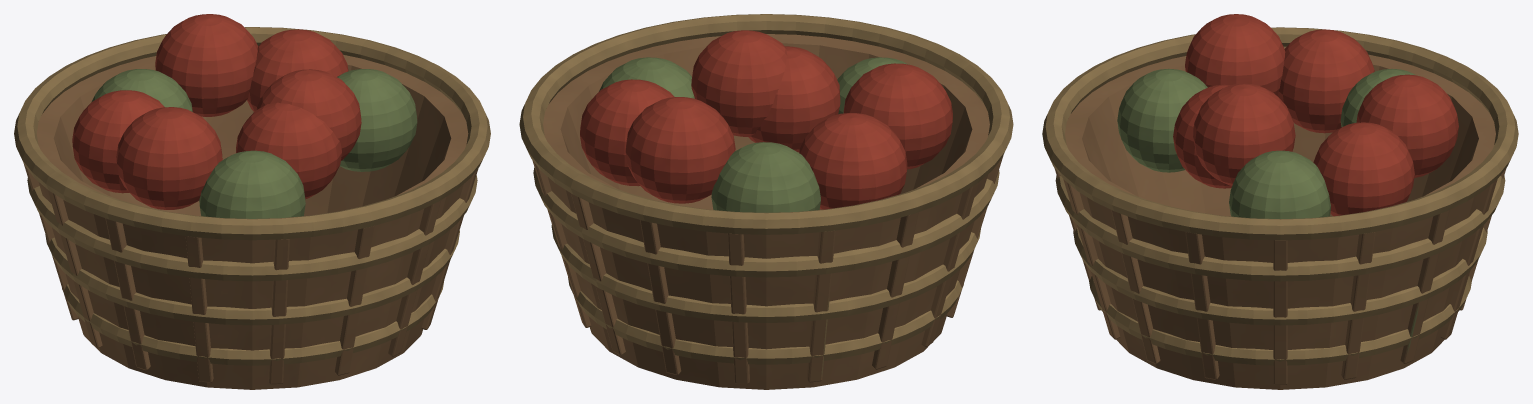
The model's file is Produce_Basket.fbx.
3 renders of one model, left to right at view 1: azimuth 30°, elevation 25°; view 2: azimuth 150°, elevation 25°; view 3: azimuth 270°, elevation 25°, orthographic. The views are drawn at different scales.
Parts seen in each view (by area): view 1: Produce_Basket.001; view 2: Produce_Basket.001; view 3: Produce_Basket.001.
Part boxes in pixels (<box>): Produce_Basket.001: <box>14,14,490,389</box>; Produce_Basket.001: <box>519,14,1013,389</box>; Produce_Basket.001: <box>1042,14,1518,389</box>.
Size of the model in its own units: 0.924 by 0.526 by 0.924.
